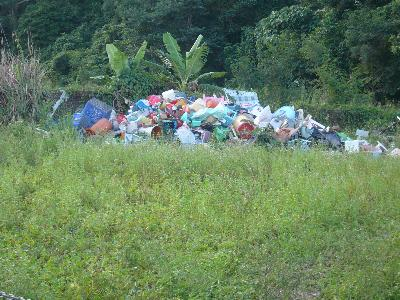bucket: (85, 118, 113, 140), (234, 113, 254, 139), (138, 123, 162, 140)
plastic_bag: (188, 102, 231, 130), (308, 125, 346, 152)
